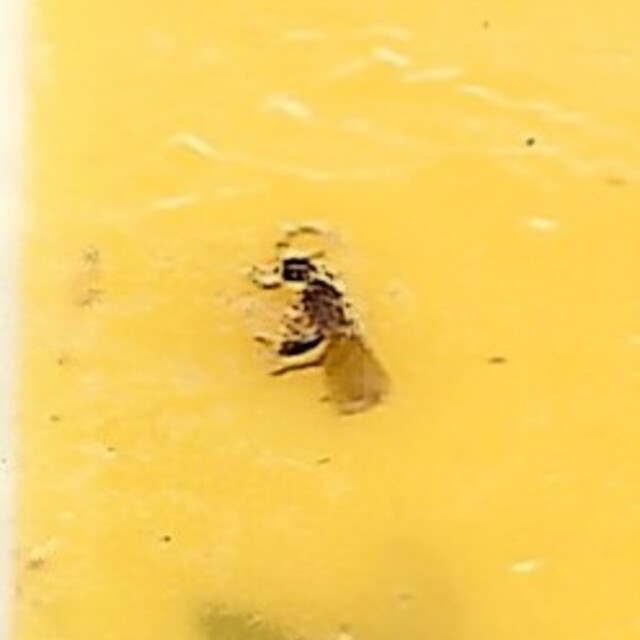Hymenoptera: (258, 226, 382, 414)
